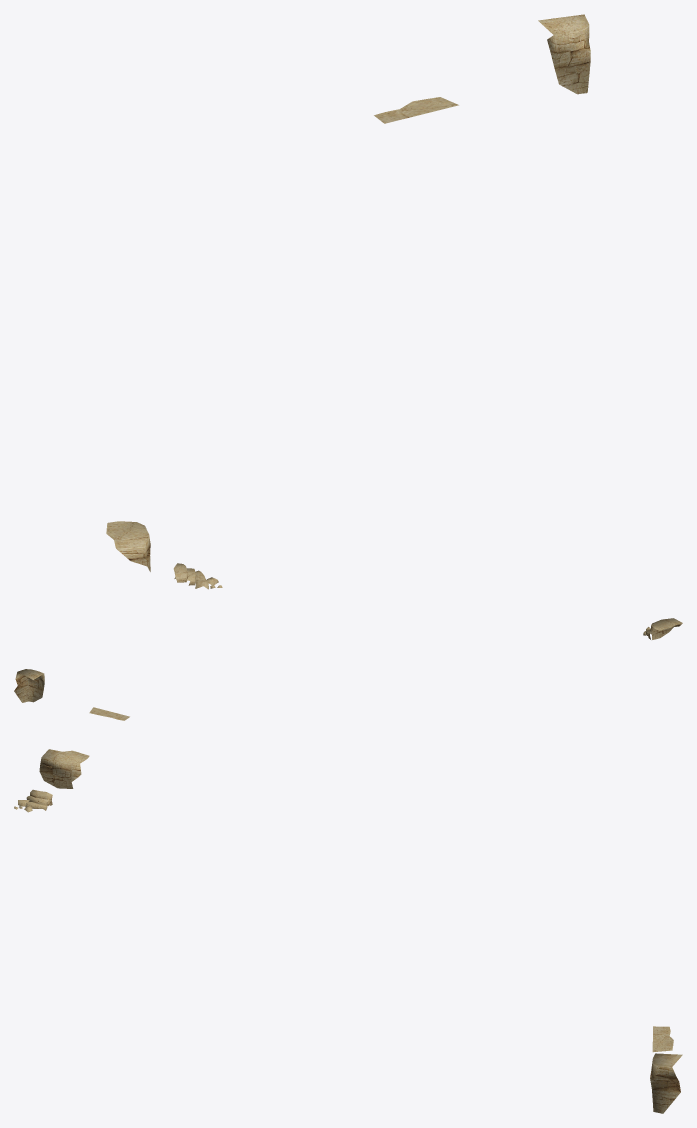
Rendered from S_Rock_Yellow054_A.FBX.
The picture shows the model from 3 angles, top to bottom: view 1: azimuth 30°, elevation 25°; view 2: azimuth 150°, elevation 25°; view 3: azimuth 270°, elevation 25°; orthographic projection. The views are drawn at different scales.
Parts seen in each view (by area): view 1: S_Rock_Yellow054_005, S_Rock_Yellow054_001, S_Rock_Yellow054_006; view 2: S_Rock_Yellow054_005, S_Rock_Yellow054_001, S_Rock_Yellow054_006; view 3: S_Rock_Yellow054_005, S_Rock_Yellow054_001.
Part boxes in pixels (left/top/right/bottom): S_Rock_Yellow054_005: left=538, top=14, right=590, bottom=94; S_Rock_Yellow054_001: left=106, top=521, right=150, bottom=571; S_Rock_Yellow054_006: left=374, top=97, right=458, bottom=123; S_Rock_Yellow054_005: left=14, top=669, right=44, bottom=702; S_Rock_Yellow054_001: left=650, top=618, right=682, bottom=639; S_Rock_Yellow054_006: left=89, top=707, right=129, bottom=720; S_Rock_Yellow054_005: left=650, top=1053, right=682, bottom=1113; S_Rock_Yellow054_001: left=39, top=749, right=89, bottom=788.
Size of the model in its own units: 18613 by 1363 by 16574.
